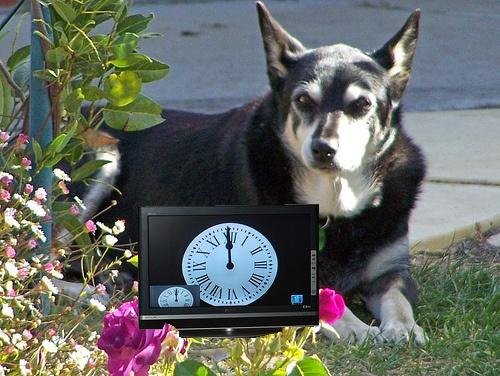tampered: (139, 205, 319, 338)
